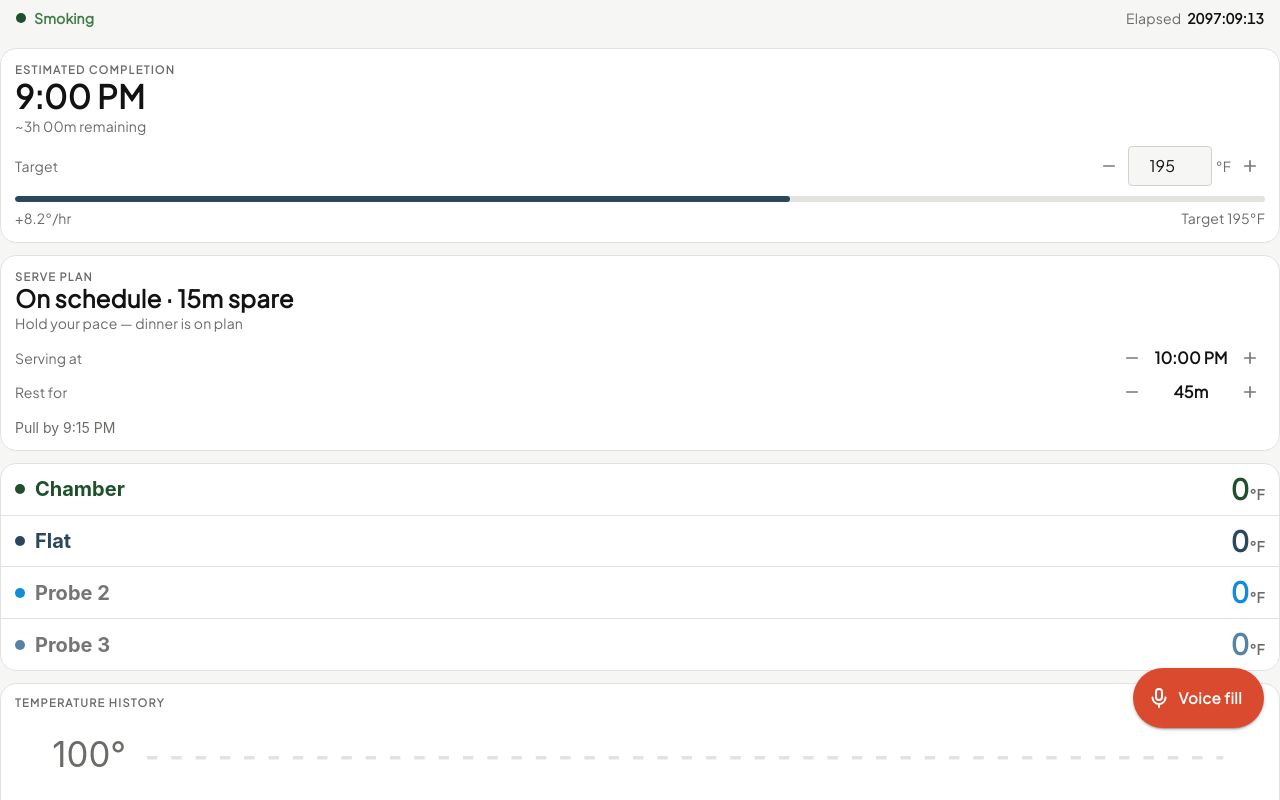
Test case: Voice Fill on the smoke screen › fills the names, the wood and Notes, and Undo puts each back
Click the button "Voice fill" at (1198, 698), box [1133, 668, 1264, 728]
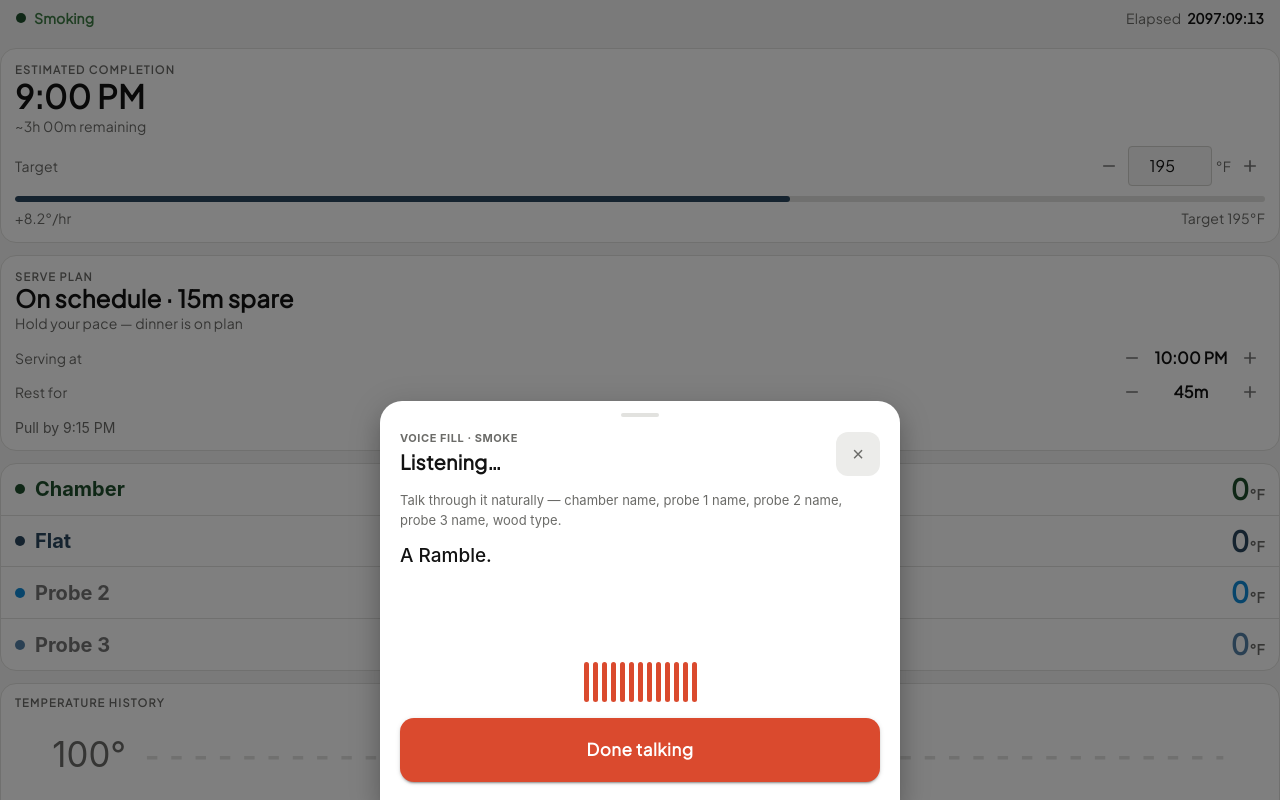
Click the button "Done talking" at (640, 750), box [400, 718, 880, 782]
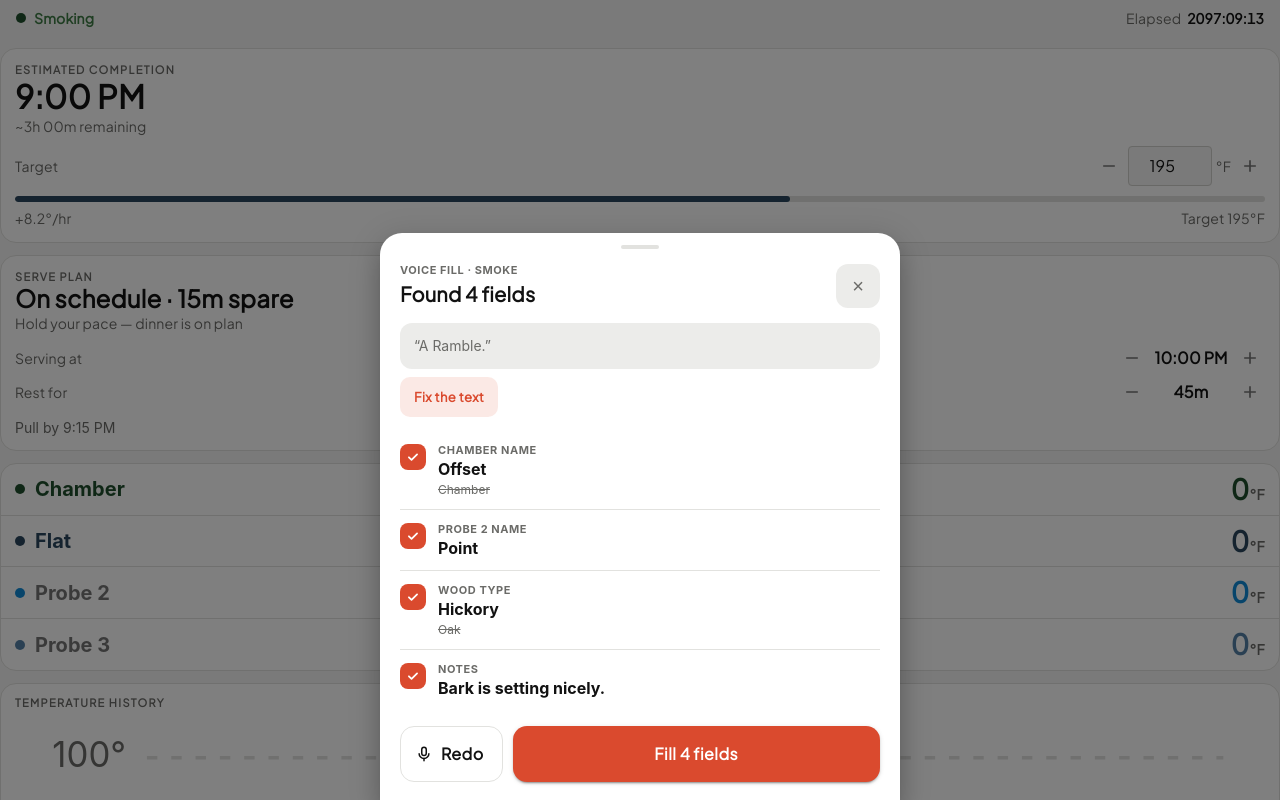
Expected: the button "Fill 4 fields" is shown
Click the button "Fill 4 fields" at (696, 754), box [513, 726, 880, 782]
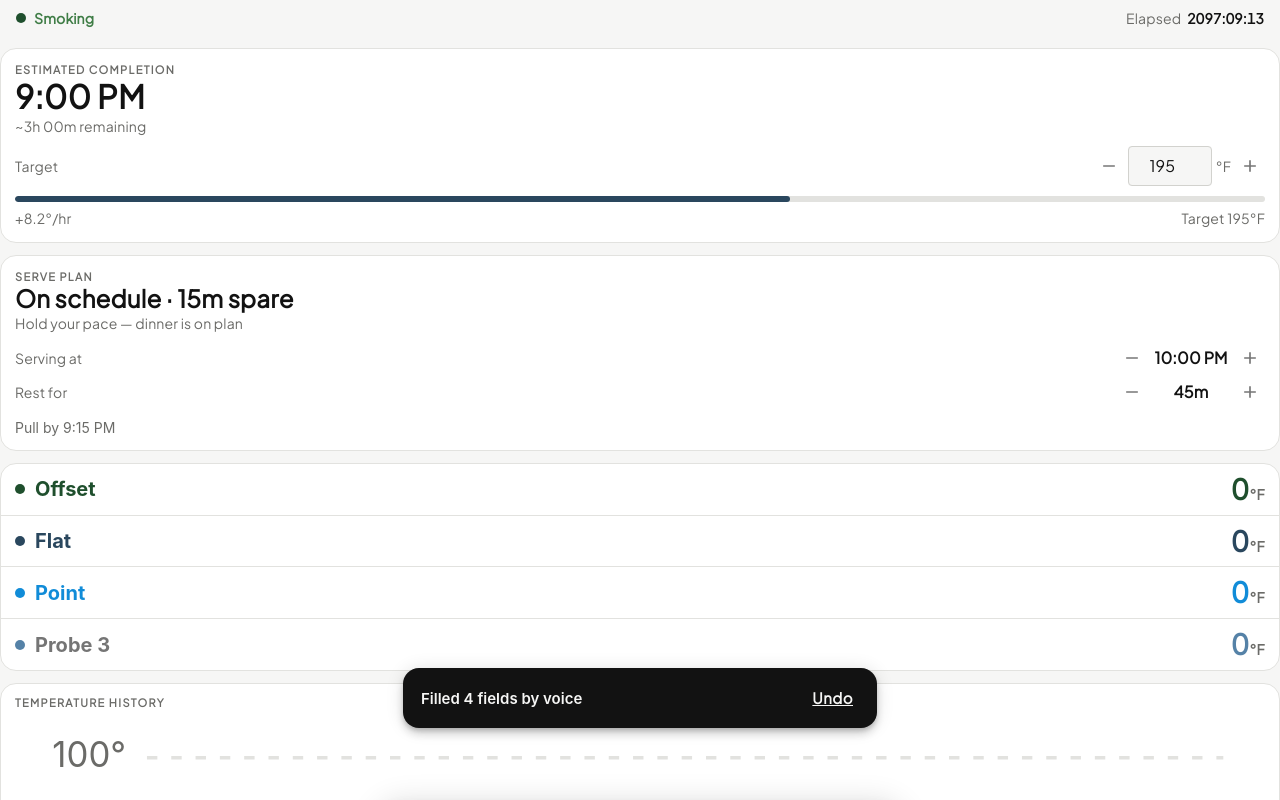
Expected: the message with test id "voice-fill-toast" shows "Filled 4 fields by voice", [403, 668, 877, 728]
Click the button "Undo" at (833, 698), box [796, 676, 869, 720]
(page scrolled)
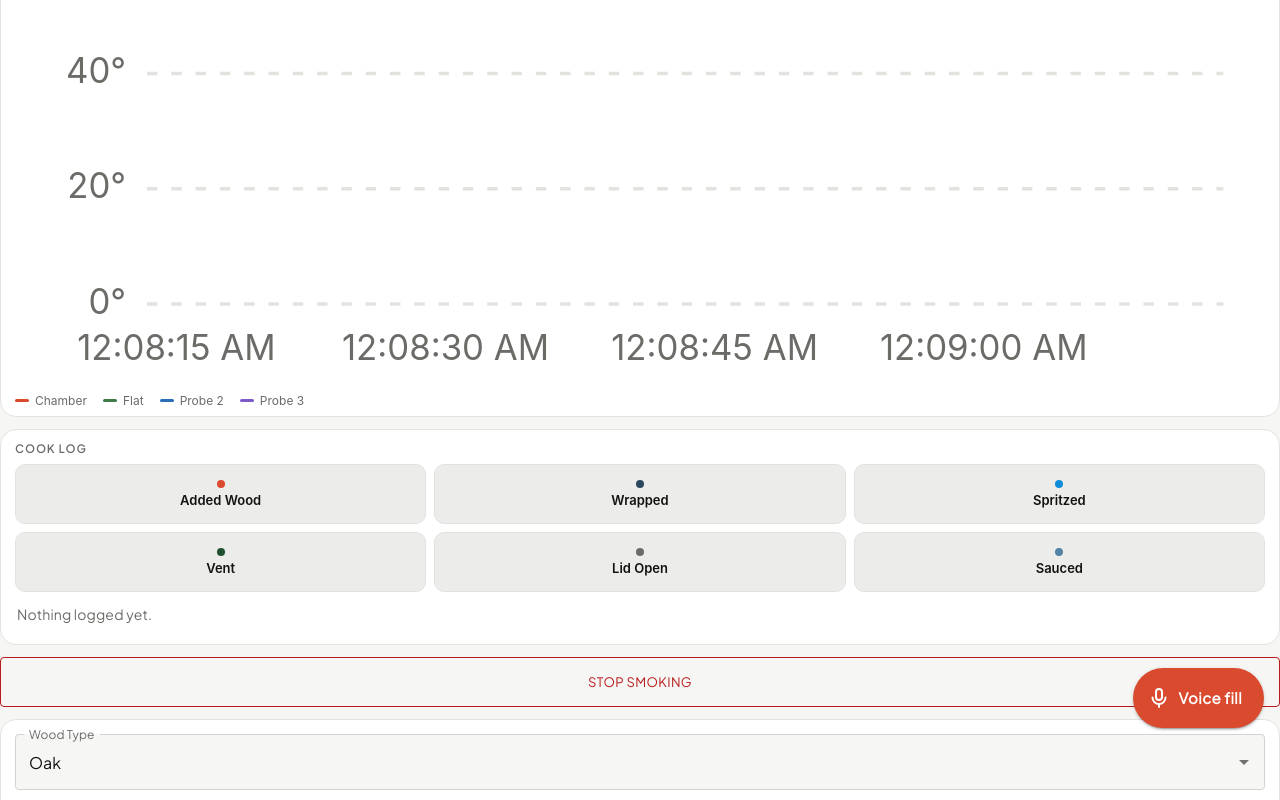
Expected: the list item "Chamber" is shown, [15, 393, 87, 408]
